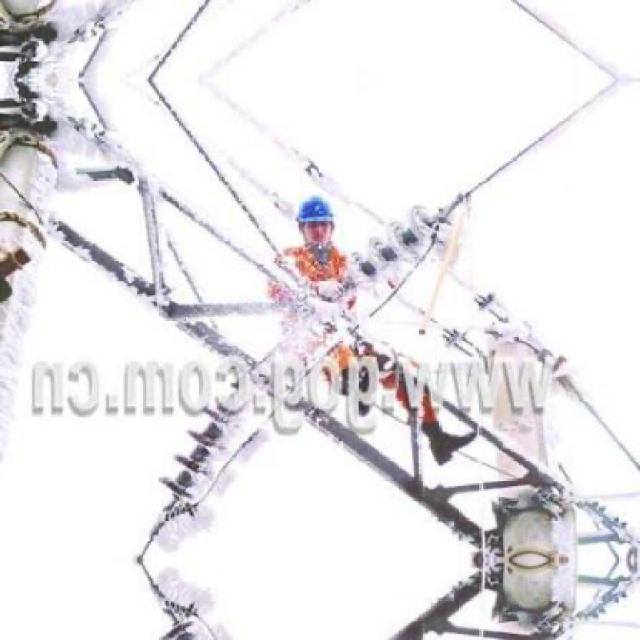helmet: (295, 188, 340, 250)
